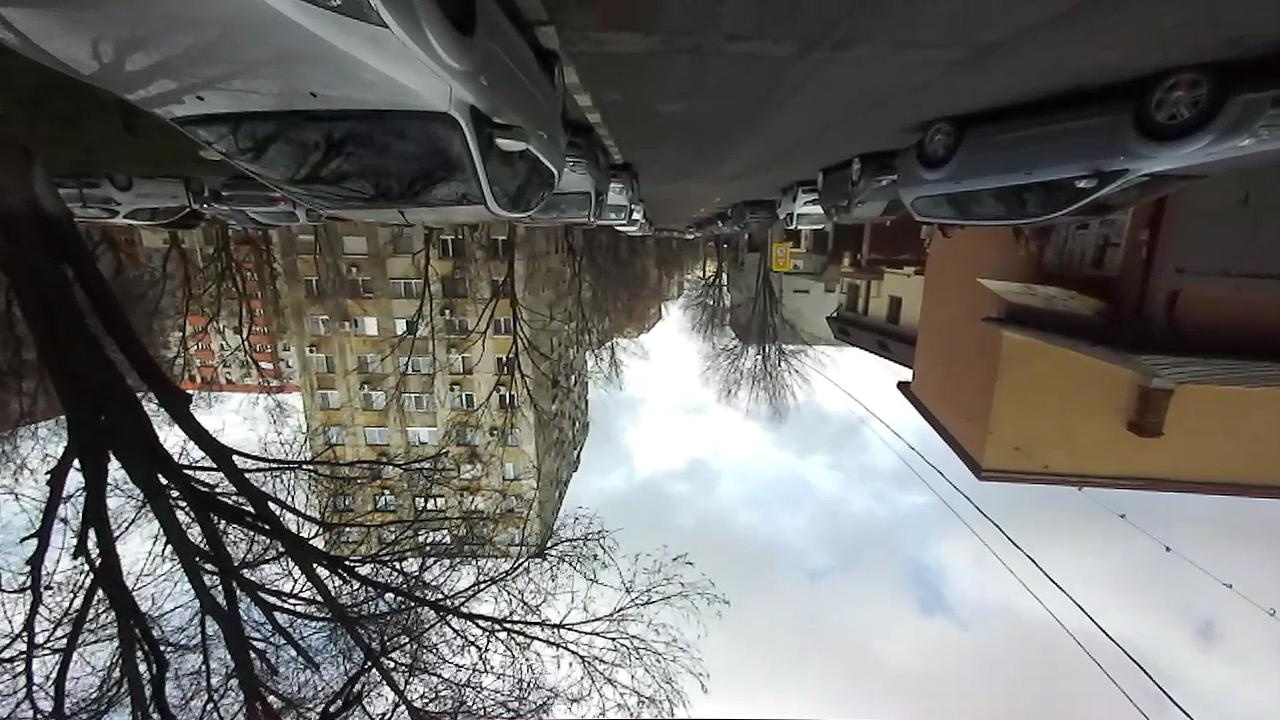pothole: (657, 26, 758, 56)
